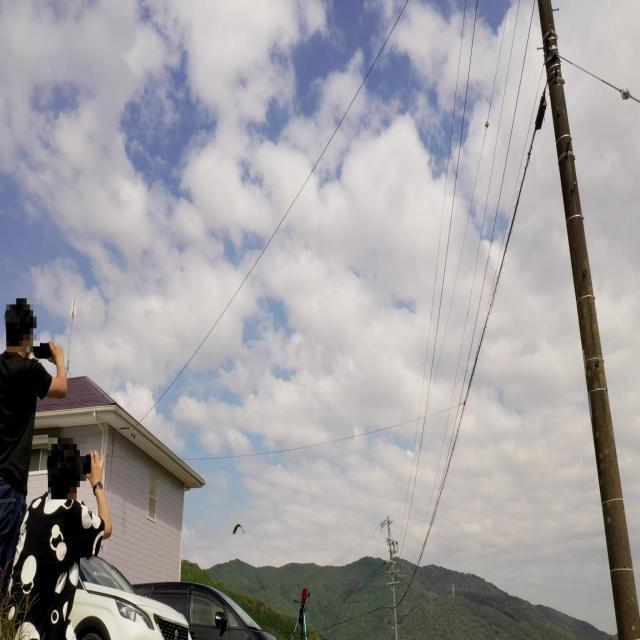Birds: (229, 510, 250, 538)
